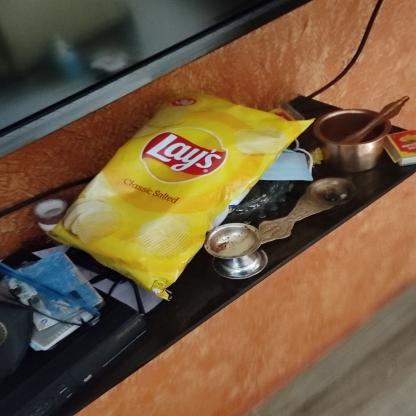classicsalted: (36, 85, 316, 303)
